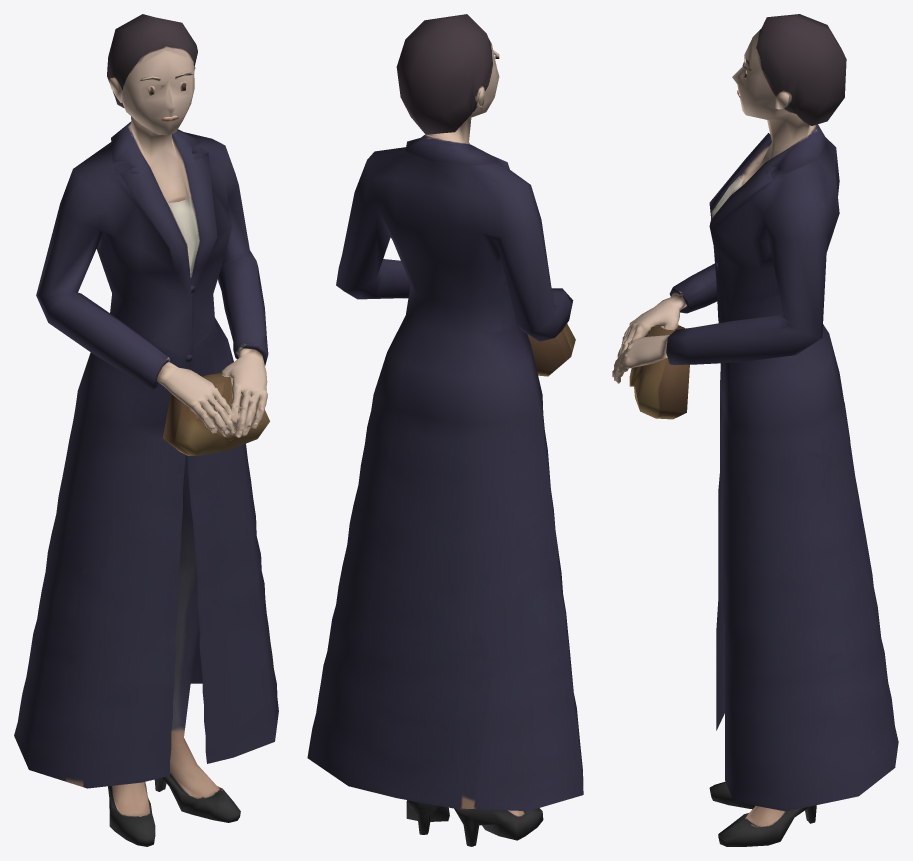
The model's file is original_glb.glb.
3 views of the same model, side by side, from view 1: azimuth 30°, elevation 25°; view 2: azimuth 150°, elevation 25°; view 3: azimuth 270°, elevation 25° (orthographic). The views are drawn at different scales.
Visible parts, largest first — view 1: Penthouse guest; view 2: Penthouse guest; view 3: Penthouse guest.
Part boxes in pixels (x1=…): Penthouse guest: x1=14, y1=14, x2=278, y2=846; Penthouse guest: x1=307, y1=14, x2=583, y2=846; Penthouse guest: x1=612, y1=14, x2=898, y2=846.
Size of the model in its own units: 0.3301 by 0.998 by 0.3223.
1 material, 1 textured.
